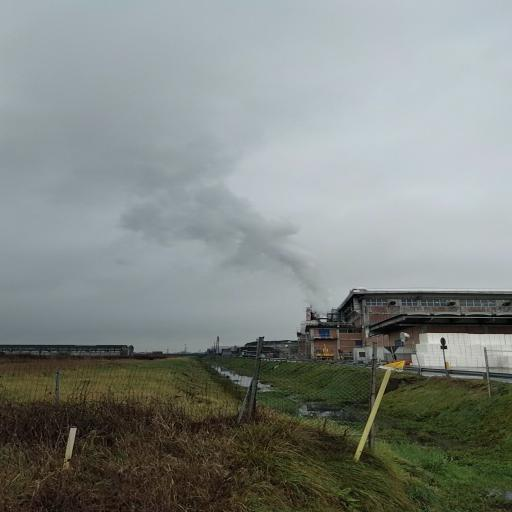leakage: (48, 111, 345, 334)
